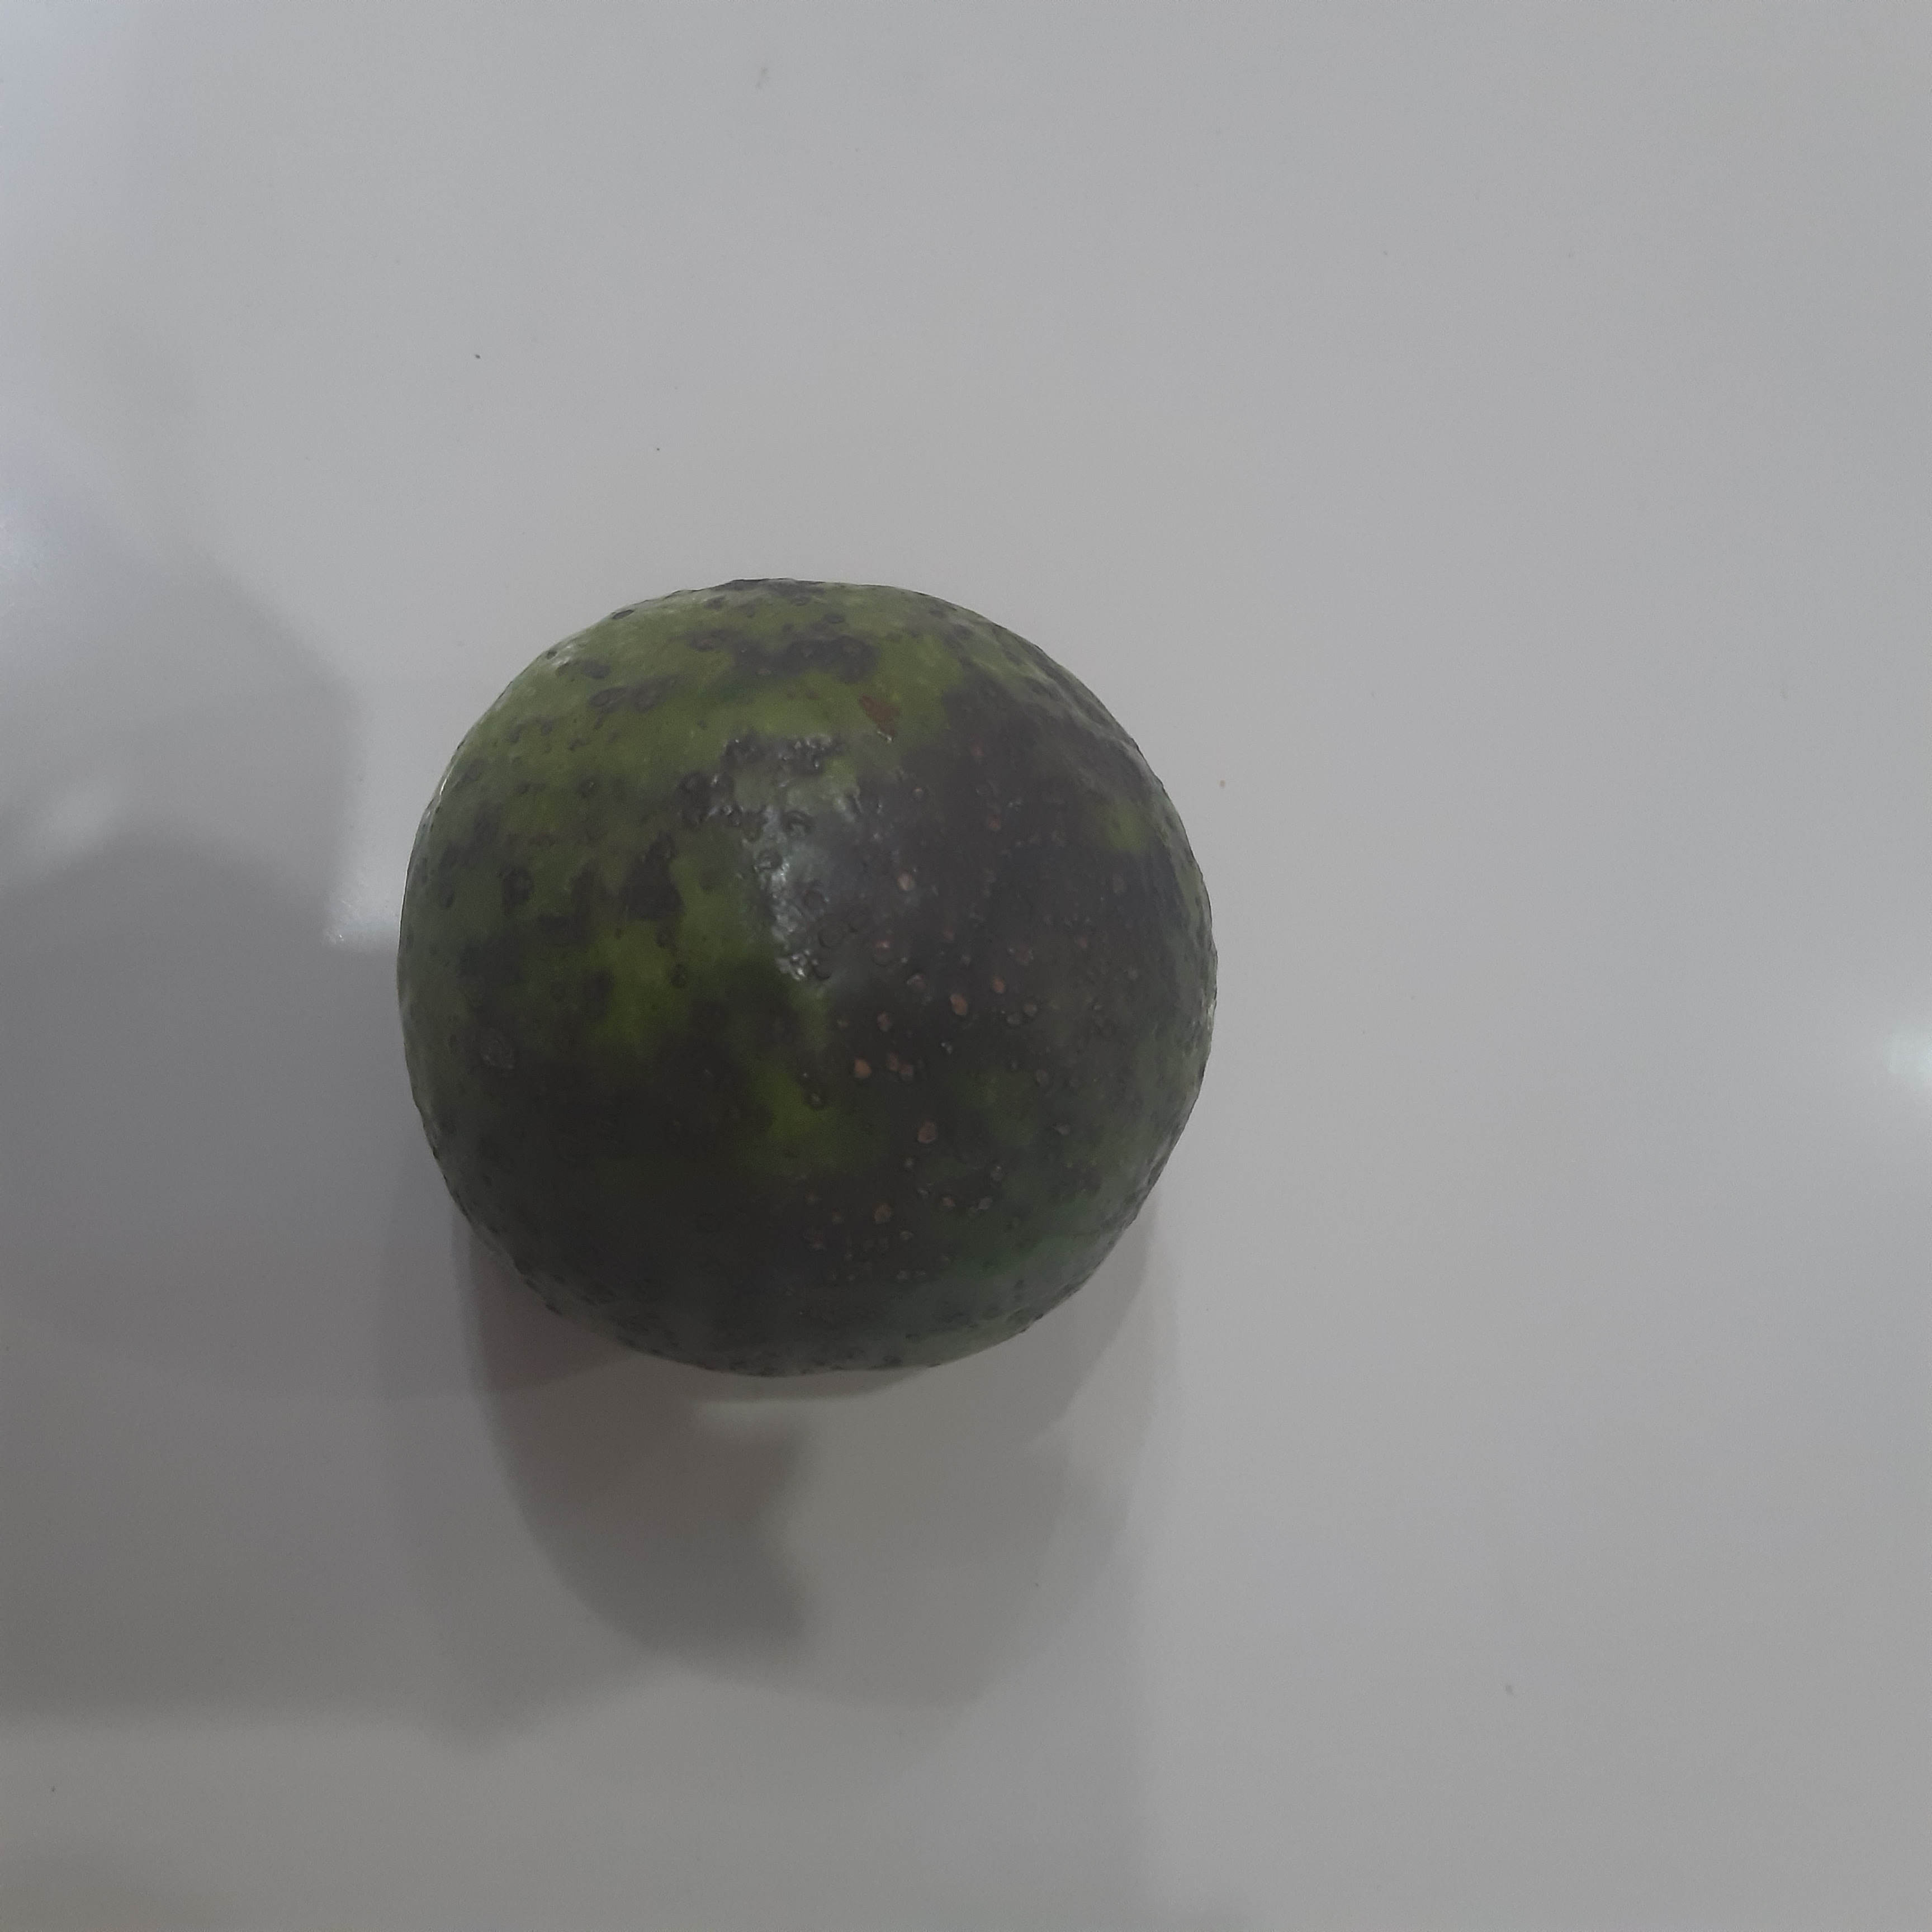Bo: (395, 577, 1219, 1385)
